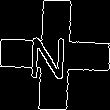N_N: (34, 29, 76, 81)
